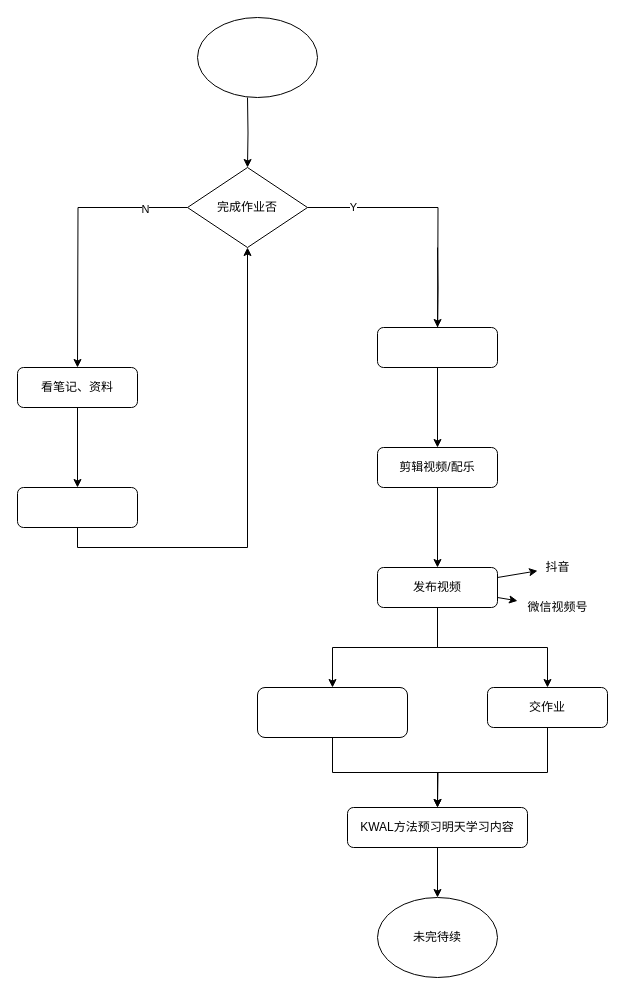
Image size: 625x995. Some labels were removed from this diagram. The shapes that lost their labels are listed below. From the top down, each one's centre as x and y in pixels, then its label:
At (257,57): "开始".
At (437,347): "bandicam录屏".
At (77,507): "加班加点当天完成".
At (332,712): "上传GitHub代码 + 更新文档".
